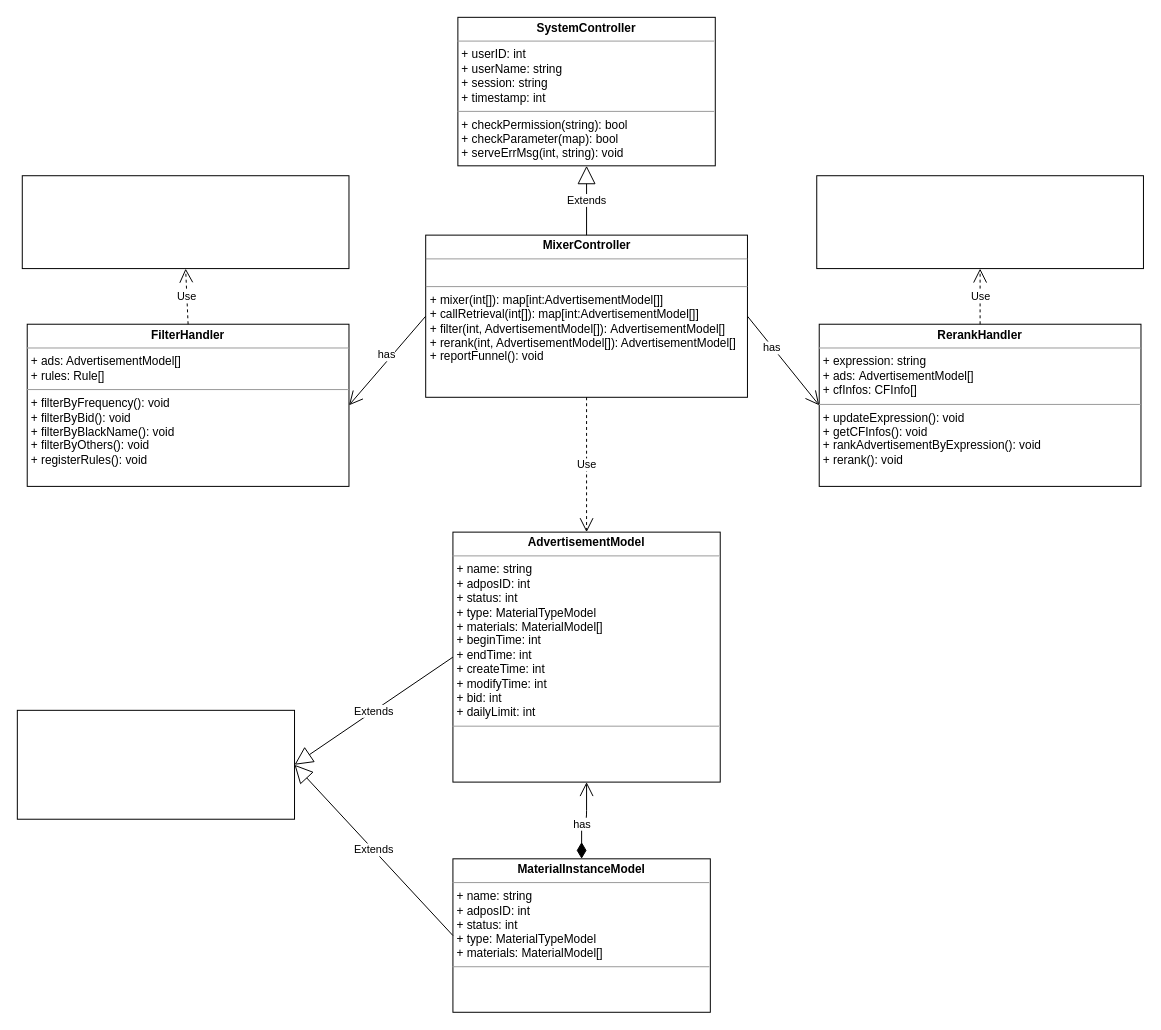
Some shapes in this 1161 by 1030 pixel diagram are drawn without their labels. The shapes that lost their labels are listed below. From the top down, each one's box as (x1, y1, x2, y2) in pixels, then its label:
(21, 175, 349, 269): Rule + key: []string + threshold: []string + resolveFromFile(string): void
(816, 175, 1143, 269): CFinfo + feature: []string + rate: []int
(16, 709, 295, 819): SystemModel + ID: int + new(): SystemModel + get(): SystemModel + set(): bool
